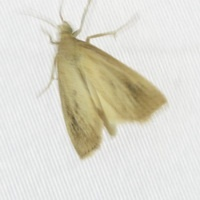insect: (49, 0, 166, 158)
